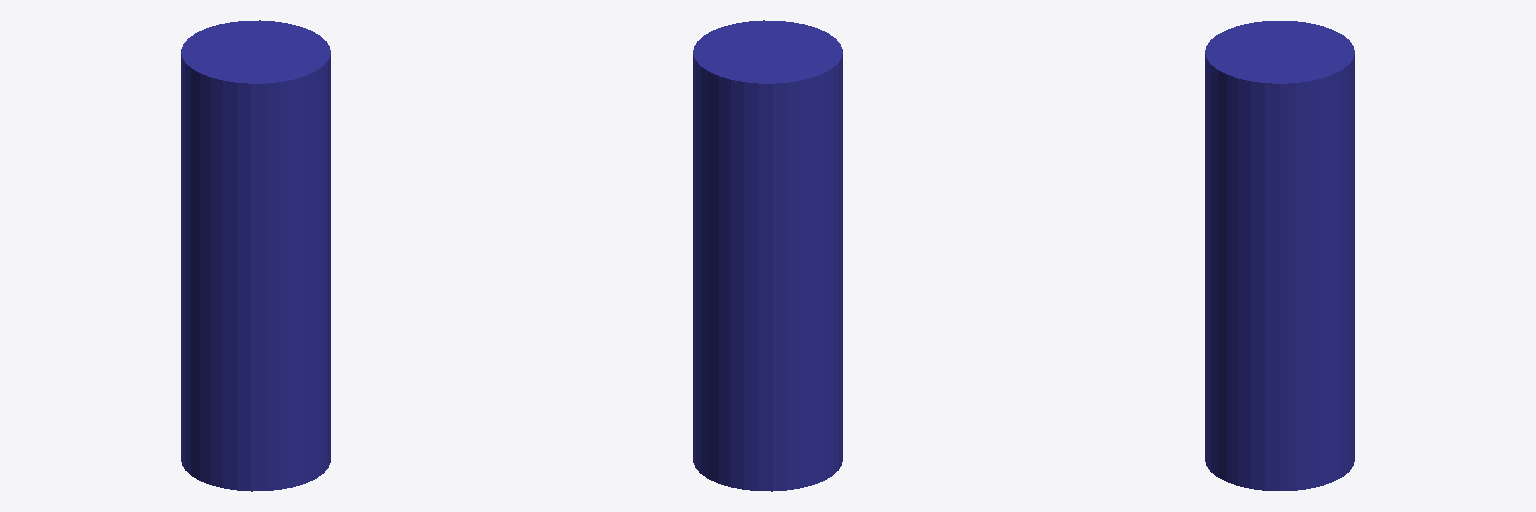
robot.urdf — obstacle1:
<robot name="obstacle1">
  <material name="dark_blue"><color rgba="0.27 0.27 0.67 1.00"/></material>
  <link name="base_link">
    <inertial>
      <mass value="0.05" />
      <origin xyz="0.00 0.00 0.15" /> 
      <inertia  ixx="0.025" ixy="0"  ixz="0"  iyy="0.025"  iyz="0"  izz="0.025" />
    </inertial>
    <visual>
      <origin xyz="0.0 0.0 0.15" rpy="0.0 0.0 0.0" />
      <geometry>
        <cylinder radius="0.05" length="0.30"/>
      </geometry>
      <material name="dark_blue"/>
    </visual>
    <collision>
      <origin xyz="0.0 0.0 0.15" rpy="0.0 0.0 0.0" />
      <geometry>
        <cylinder radius="0.05" length="0.30"/>
      </geometry>
    </collision>
  </link>
</robot>

--- What the picture shows (computed from the rendered views, not written in the file) ---
Views: 3 orthographic renders of the robot side by side, from view 1: azimuth 30°, elevation 25°; view 2: azimuth 150°, elevation 25°; view 3: azimuth 270°, elevation 25°.
Robot: obstacle1 — 1 links, 0 joints (none); root link base_link; default pose: all joints at 0.
Visible links, largest first — view 1: base_link; view 2: base_link; view 3: base_link.
Link boxes in pixels (x1,y1,x2,y2): base_link: (181, 20, 330, 491); base_link: (693, 20, 842, 491); base_link: (1205, 21, 1354, 490).
Bounding box of the posed robot: 0.1 × 0.1 × 0.3 m (x, y, z).
Geometry: primitives only (box / cylinder / sphere), no mesh files.